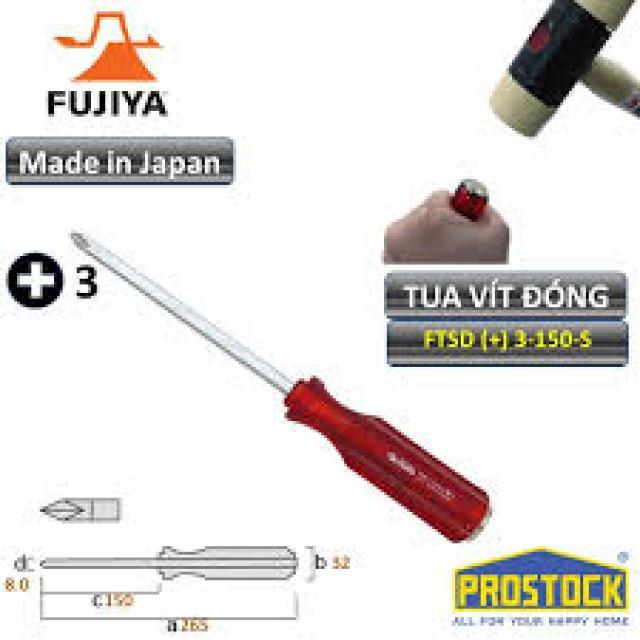hammer: (475, 0, 640, 142)
screwdriver: (59, 217, 496, 554)
